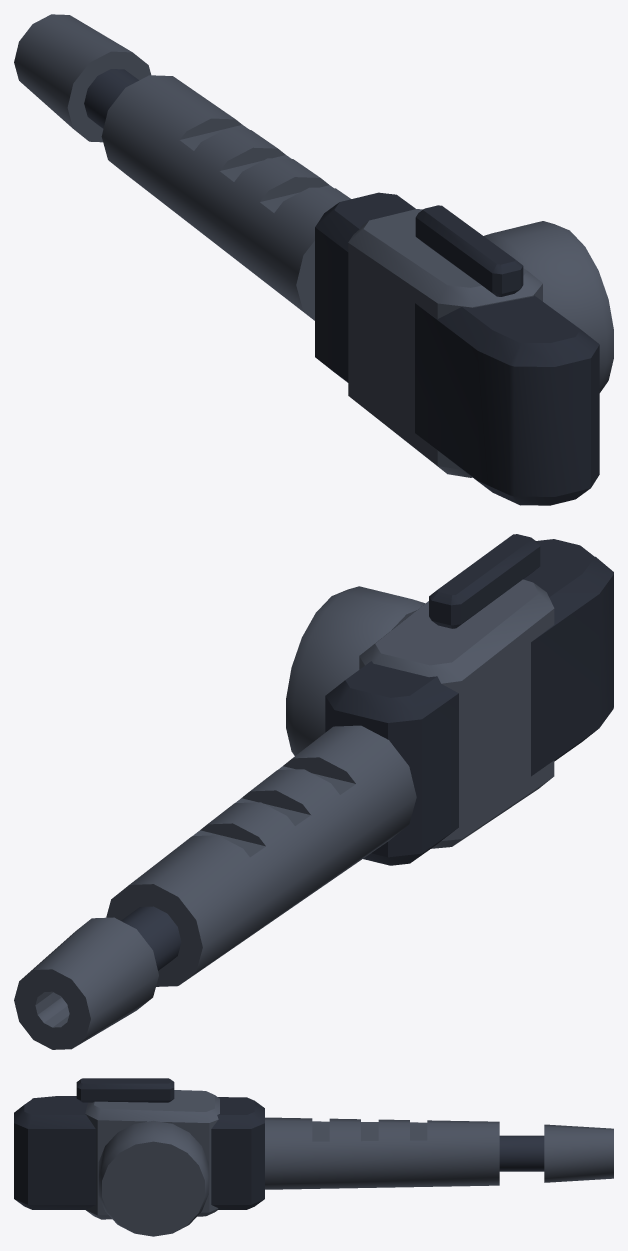
File: w_a_artillery_leg_gun.glb
3 views of the same model, one above another, from view 1: azimuth 30°, elevation 25°; view 2: azimuth 150°, elevation 25°; view 3: azimuth 270°, elevation 25° (orthographic). The views are drawn at different scales.
Parts seen in each view (by area): view 1: weapon_body, weapon_metal; view 2: weapon_body, weapon_metal; view 3: weapon_body, weapon_metal.
Part boxes in pixels (bbox=[...]): weapon_body: bbox=[14, 14, 613, 505]; weapon_metal: bbox=[84, 69, 138, 128]; weapon_body: bbox=[14, 534, 613, 1049]; weapon_metal: bbox=[121, 906, 181, 970]; weapon_body: bbox=[14, 1078, 613, 1236]; weapon_metal: bbox=[499, 1135, 544, 1171].
Size of the model in its own units: 1.03 by 1.22 by 5.16.
